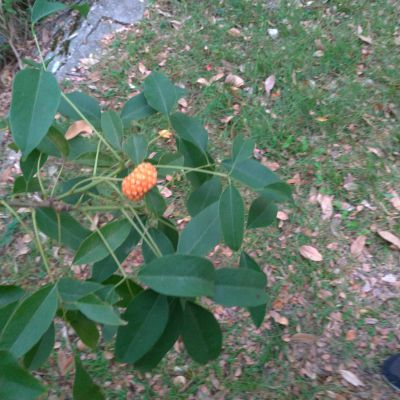eggs: (120, 159, 160, 200)
